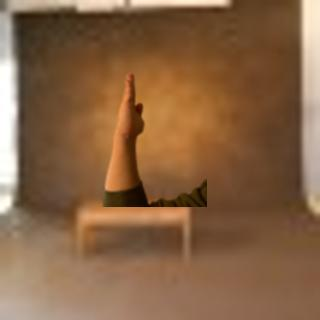RIGHT: (113, 70, 151, 146)
